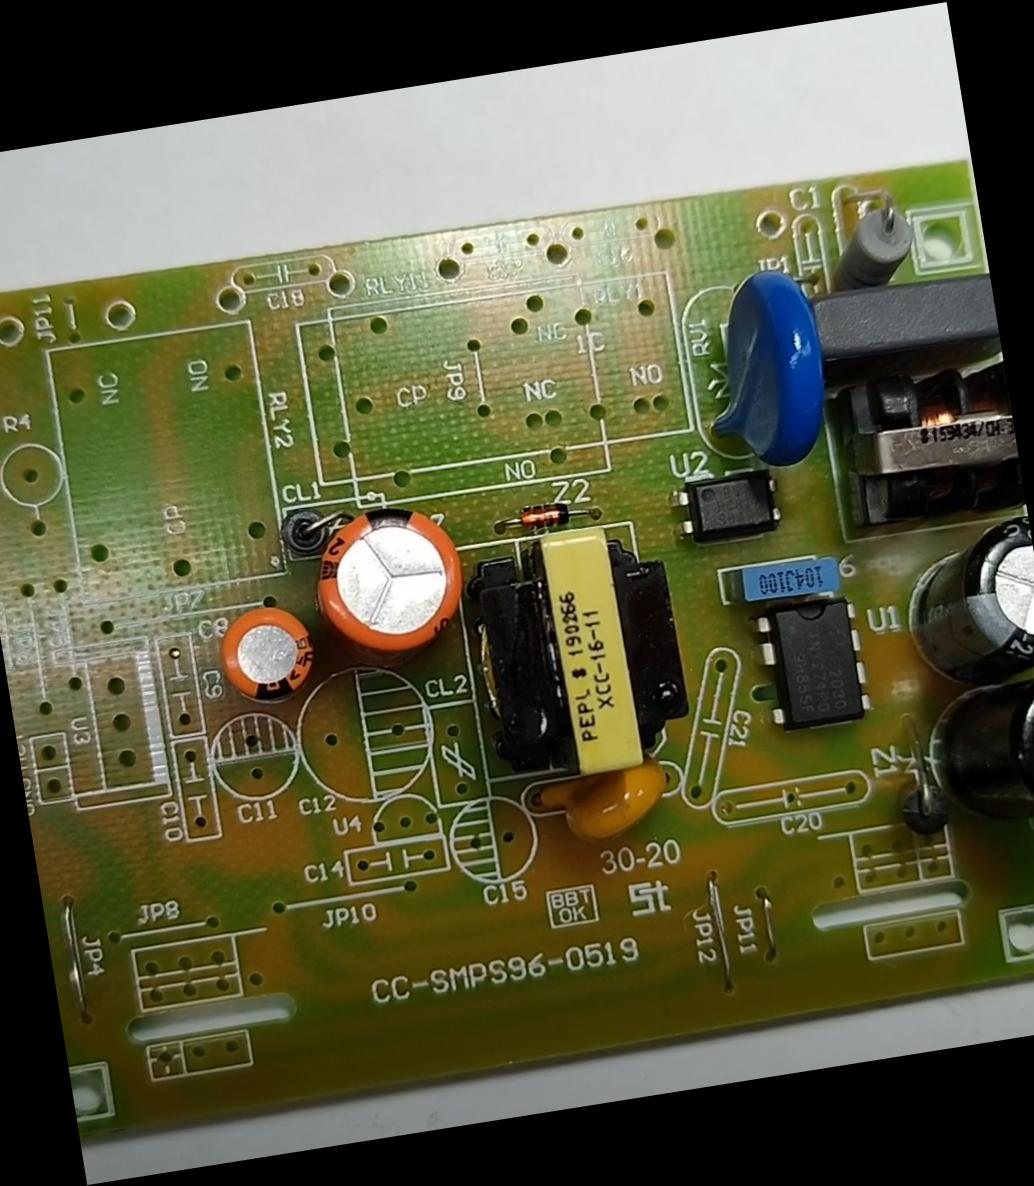Cap1: (292, 491, 479, 665)
Cap2: (207, 594, 322, 711)
Cap3: (891, 511, 1033, 688)
Cap4: (916, 671, 1033, 839)
MOSFET: (745, 590, 876, 737)
Mov: (679, 257, 841, 480)
Resistor: (819, 195, 922, 286)
Transformer: (461, 506, 699, 789), (830, 355, 1025, 529)
